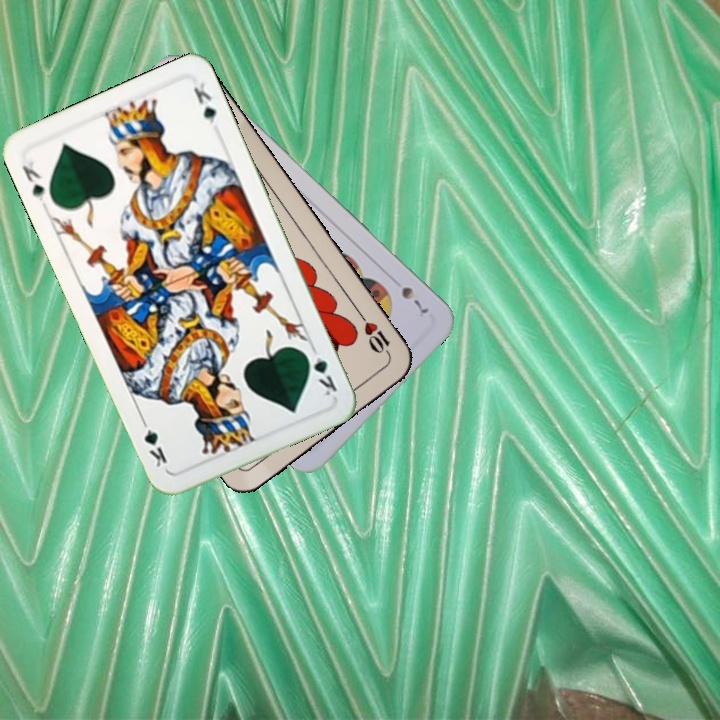GK: (300, 347, 340, 399), (18, 157, 48, 206)
H10: (355, 309, 394, 362)
S7: (397, 282, 432, 316)
